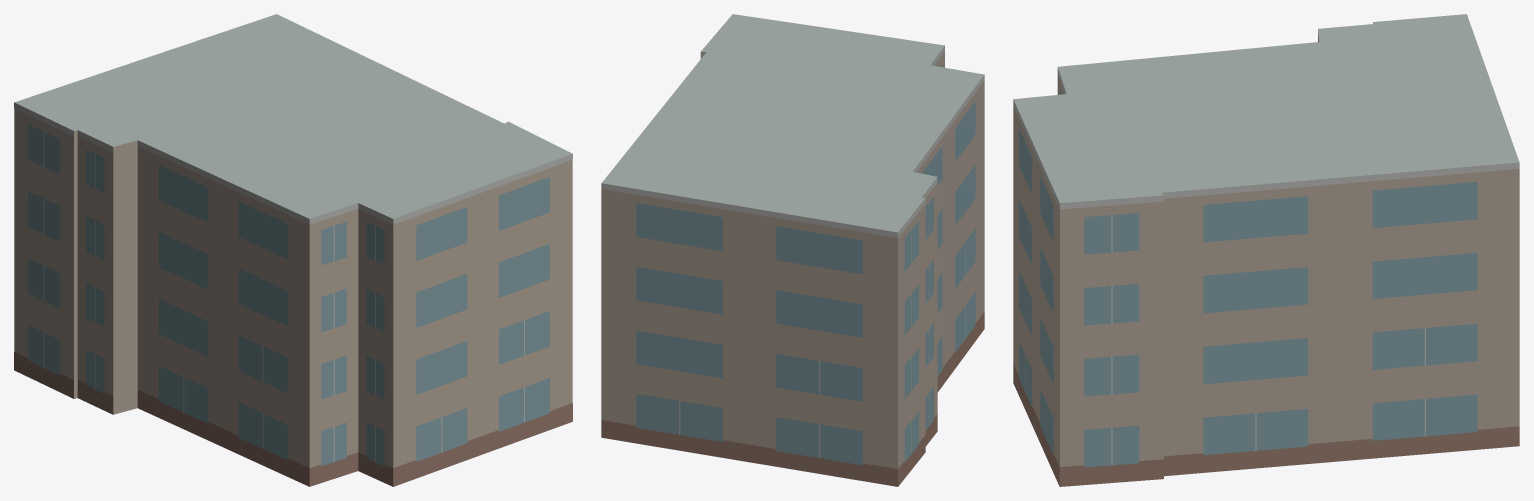
File: survey-upis-32680954.glb
3 views of the same model, side by side, from view 1: azimuth 30°, elevation 25°; view 2: azimuth 150°, elevation 25°; view 3: azimuth 270°, elevation 25° (orthographic). The views are drawn at different scales.
Parts seen in each view (by area): view 1: survey-upis-32680954.tmp; view 2: survey-upis-32680954.tmp; view 3: survey-upis-32680954.tmp.
Part boxes in pixels (box(x1,y1,x2,y2)): survey-upis-32680954.tmp: box(14, 14, 572, 486); survey-upis-32680954.tmp: box(601, 14, 984, 486); survey-upis-32680954.tmp: box(1013, 14, 1519, 486).
Size of the model in its own units: 15.75 by 11 by 17.81.
